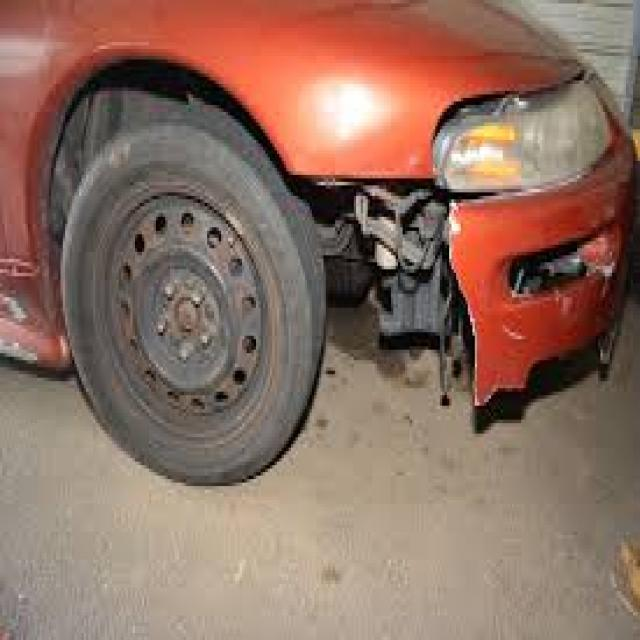minor: (217, 62, 581, 418)
